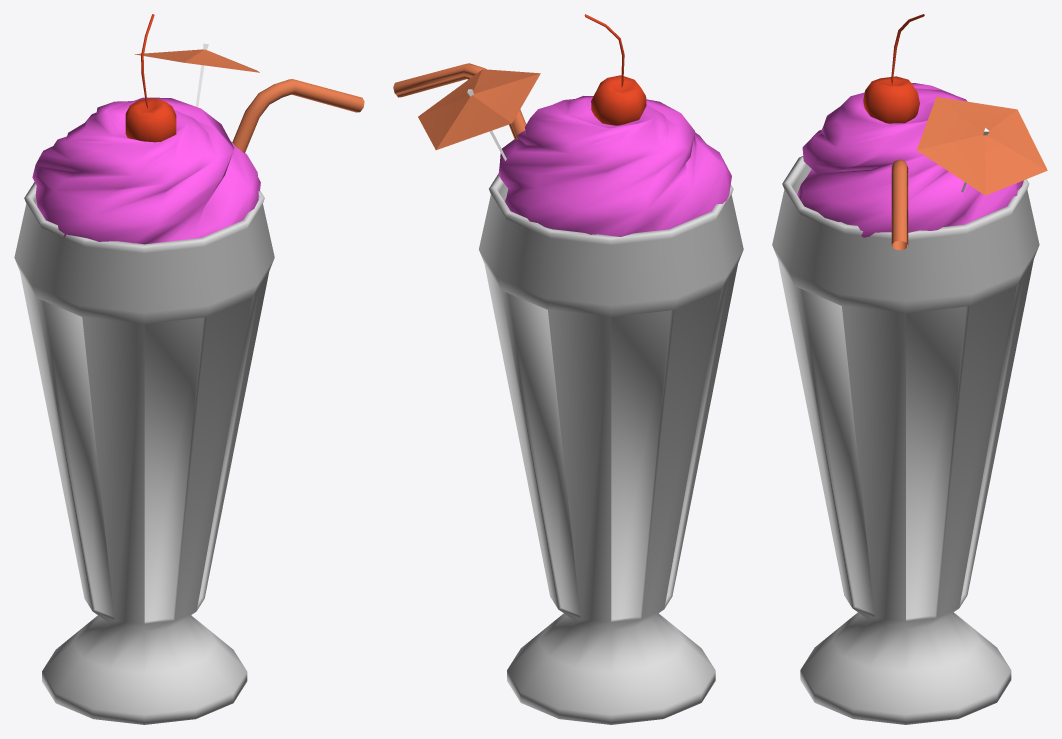
The model's file is strawberry_milkshake.glb.
3 renders of one model, left to right at view 1: azimuth 30°, elevation 25°; view 2: azimuth 150°, elevation 25°; view 3: azimuth 270°, elevation 25°, orthographic. The views are drawn at different scales.
Parts seen in each view (by area): view 1: Cylinder_2, Icosphere_3, Cylinder.001_4, Sphere_5, Cone_7; view 2: Cylinder_2, Icosphere_3, Cone_7, Sphere_5, Cylinder.001_4; view 3: Cylinder_2, Icosphere_3, Cone_7, Sphere_5, Cylinder.001_4.
Part boxes in pixels (bbox=[...]): Cylinder_2: bbox=[14, 182, 274, 724]; Icosphere_3: bbox=[32, 97, 260, 244]; Cylinder.001_4: bbox=[232, 79, 364, 152]; Sphere_5: bbox=[125, 14, 176, 142]; Cone_7: bbox=[135, 49, 259, 72]; Cylinder_2: bbox=[479, 174, 743, 724]; Icosphere_3: bbox=[498, 96, 731, 236]; Cone_7: bbox=[418, 69, 540, 150]; Sphere_5: bbox=[584, 14, 646, 125]; Cylinder.001_4: bbox=[393, 63, 526, 139]; Cylinder_2: bbox=[772, 156, 1039, 724]; Icosphere_3: bbox=[797, 83, 1023, 237]; Cone_7: bbox=[916, 97, 1047, 195]; Sphere_5: bbox=[863, 14, 924, 123]; Cylinder.001_4: bbox=[891, 159, 908, 250].
Size of the model in its own units: 86.25 by 165 by 61.13.
